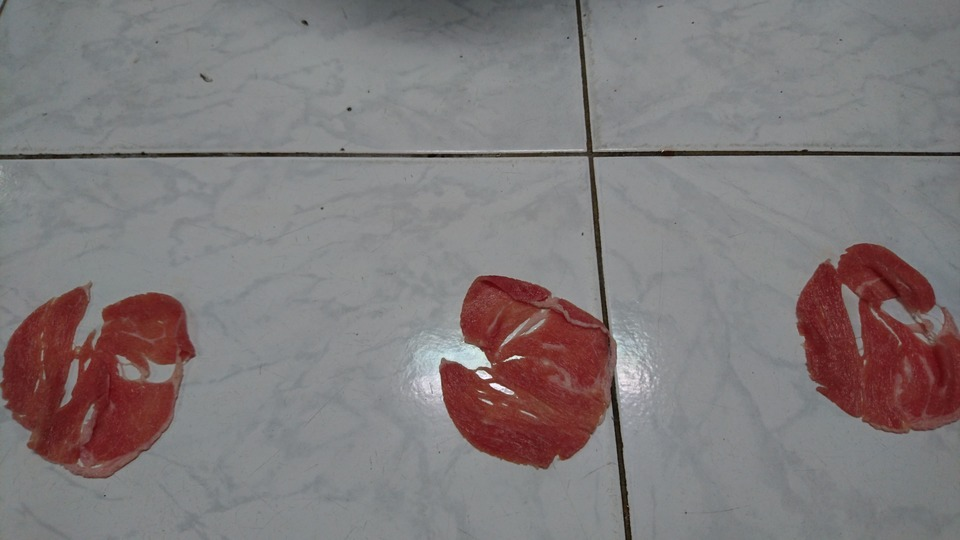restructured meat: (8, 281, 200, 479), (438, 276, 635, 467), (790, 243, 958, 436)
